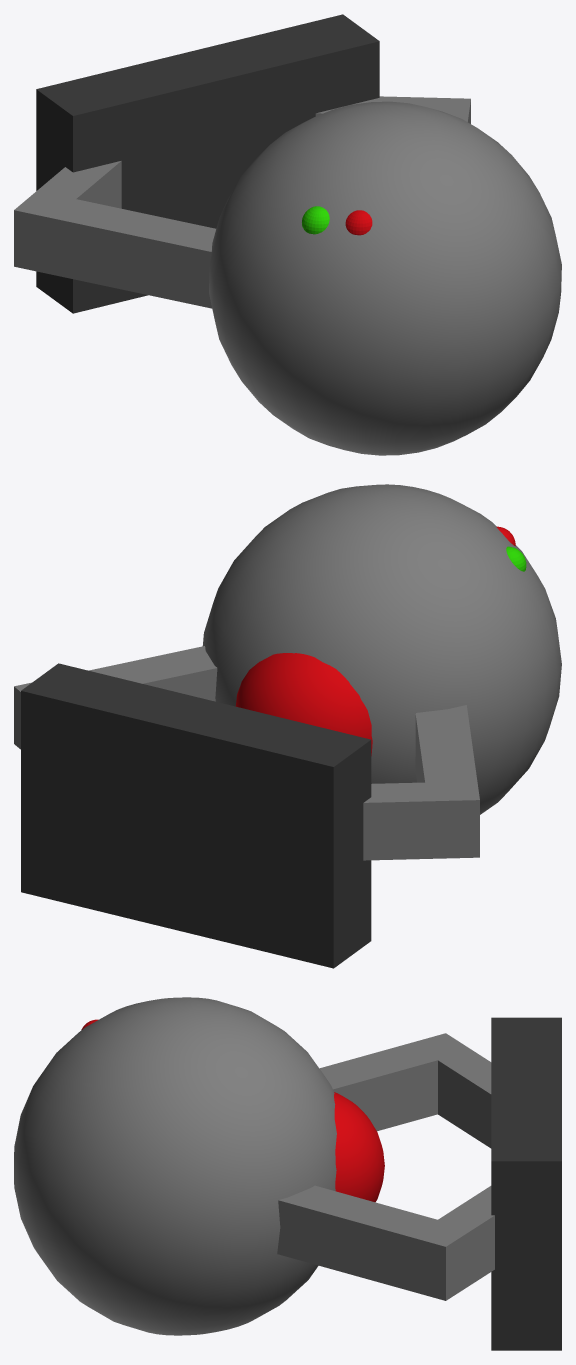
The model's file is pushernotkill.fbx.
The picture shows the model from 3 angles, top to bottom: view 1: azimuth 30°, elevation 25°; view 2: azimuth 150°, elevation 25°; view 3: azimuth 270°, elevation 25°; orthographic projection. The views are drawn at different scales.
Visible parts, largest first — view 1: Sphere, Cube.002, Cube, Cube.001, Sphere.002, Sphere.003; view 2: Cube.002, Sphere, Cube, Sphere.001, Cube.001; view 3: Sphere, Cube.002, Cube.001, Cube, Sphere.001.
Boxes of the visible parts, x1,y1,x2,y2 form: Sphere: [209, 101, 561, 455]; Cube.002: [36, 14, 379, 313]; Cube: [14, 161, 215, 308]; Cube.001: [315, 96, 470, 123]; Sphere.002: [302, 206, 329, 234]; Sphere.003: [345, 210, 372, 235]; Cube.002: [21, 663, 371, 968]; Sphere: [202, 484, 561, 814]; Cube: [363, 705, 479, 860]; Sphere.001: [235, 653, 372, 755]; Cube.001: [14, 646, 217, 749]; Sphere: [14, 997, 336, 1335]; Cube.002: [491, 1017, 561, 1350]; Cube.001: [277, 1185, 494, 1300]; Cube: [319, 1033, 491, 1148]; Sphere.001: [334, 1092, 384, 1202].
Bounding box in the file's own units: 298 × 200 × 323.
